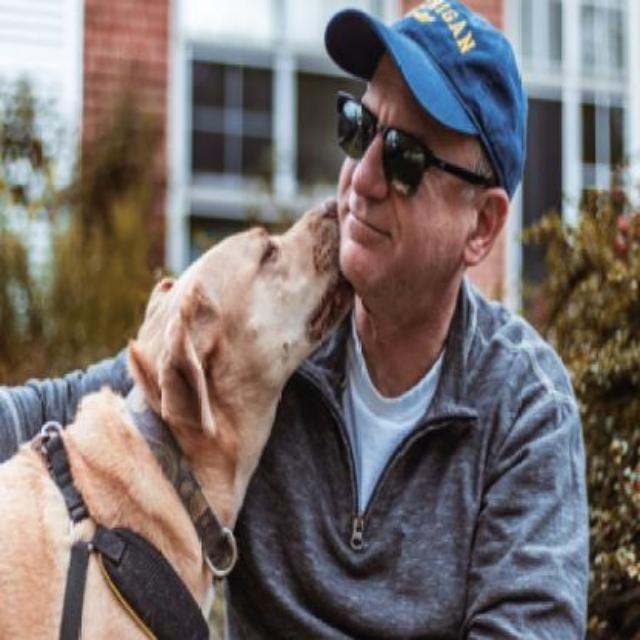glasses: (334, 86, 490, 198)
